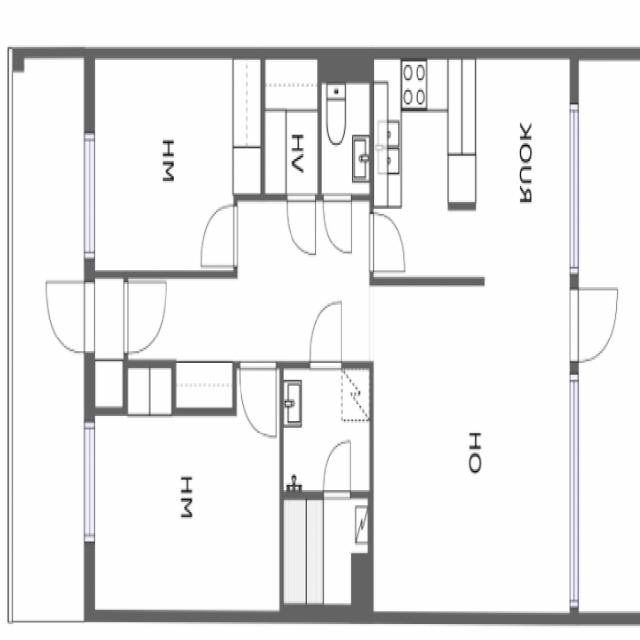door: (47, 281, 95, 351), (571, 289, 618, 360), (124, 282, 166, 352), (240, 360, 276, 436), (201, 205, 238, 265), (310, 301, 342, 368), (370, 213, 405, 270), (287, 192, 316, 252), (324, 192, 352, 252), (324, 440, 351, 500)
